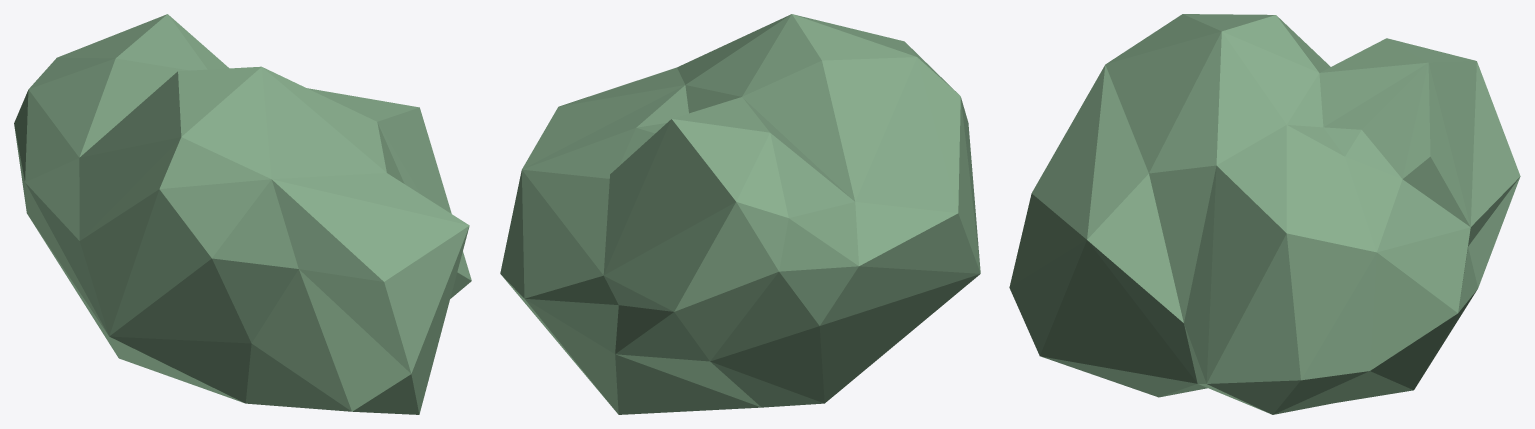
File: SmallBush_FBX.fbx
The picture shows the model from 3 angles, left to right: view 1: azimuth 30°, elevation 25°; view 2: azimuth 150°, elevation 25°; view 3: azimuth 270°, elevation 25°; orthographic projection. The views are drawn at different scales.
Parts seen in each view (by area): view 1: Bush3; view 2: Bush3; view 3: Bush3.
Part boxes in pixels (x1,y1,x2,y2): Bush3: (14, 14, 471, 414); Bush3: (500, 14, 980, 414); Bush3: (1009, 14, 1520, 414).
Size of the model in its own units: 92.68 by 75.69 by 106.
